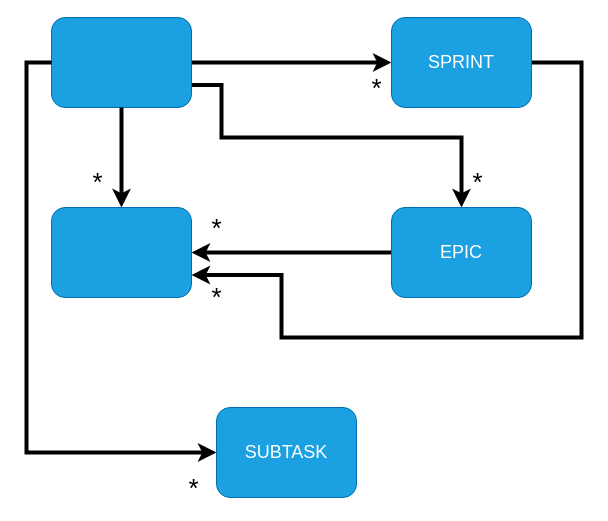
Image size: 608x521. Some labels were removed from this diagram. The centre of each missing label's shape, as x and y in pixels:
"PROJECT" belongs at [121,62].
"TICKET" belongs at [121,252].
